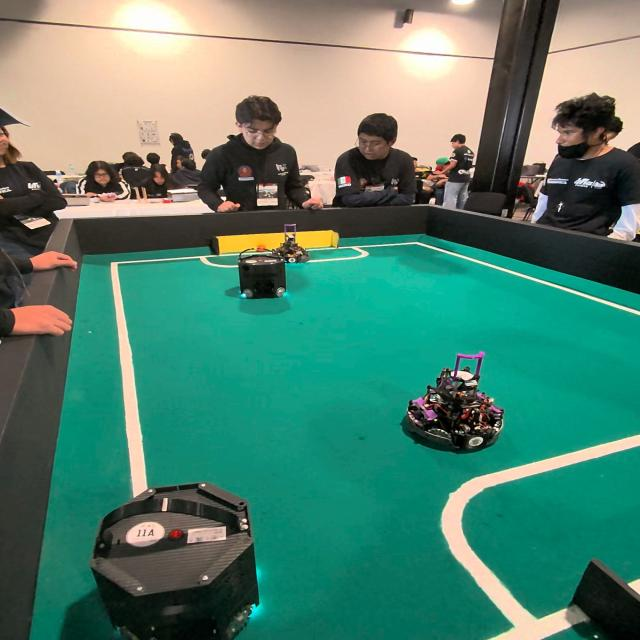Robot: (78, 477, 293, 640), (404, 362, 504, 458), (232, 246, 298, 306), (275, 226, 311, 266)
pelota: (249, 236, 272, 254)
